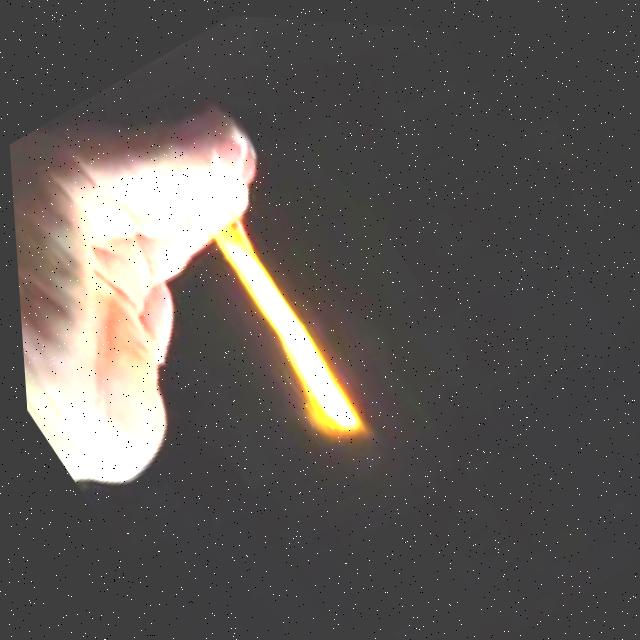Fire: (148, 156, 387, 460)
